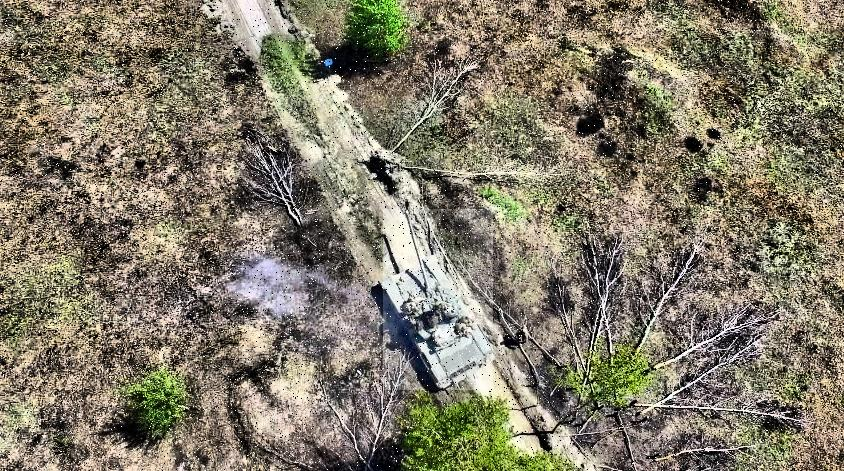military-vehicle: (383, 209, 493, 390)
